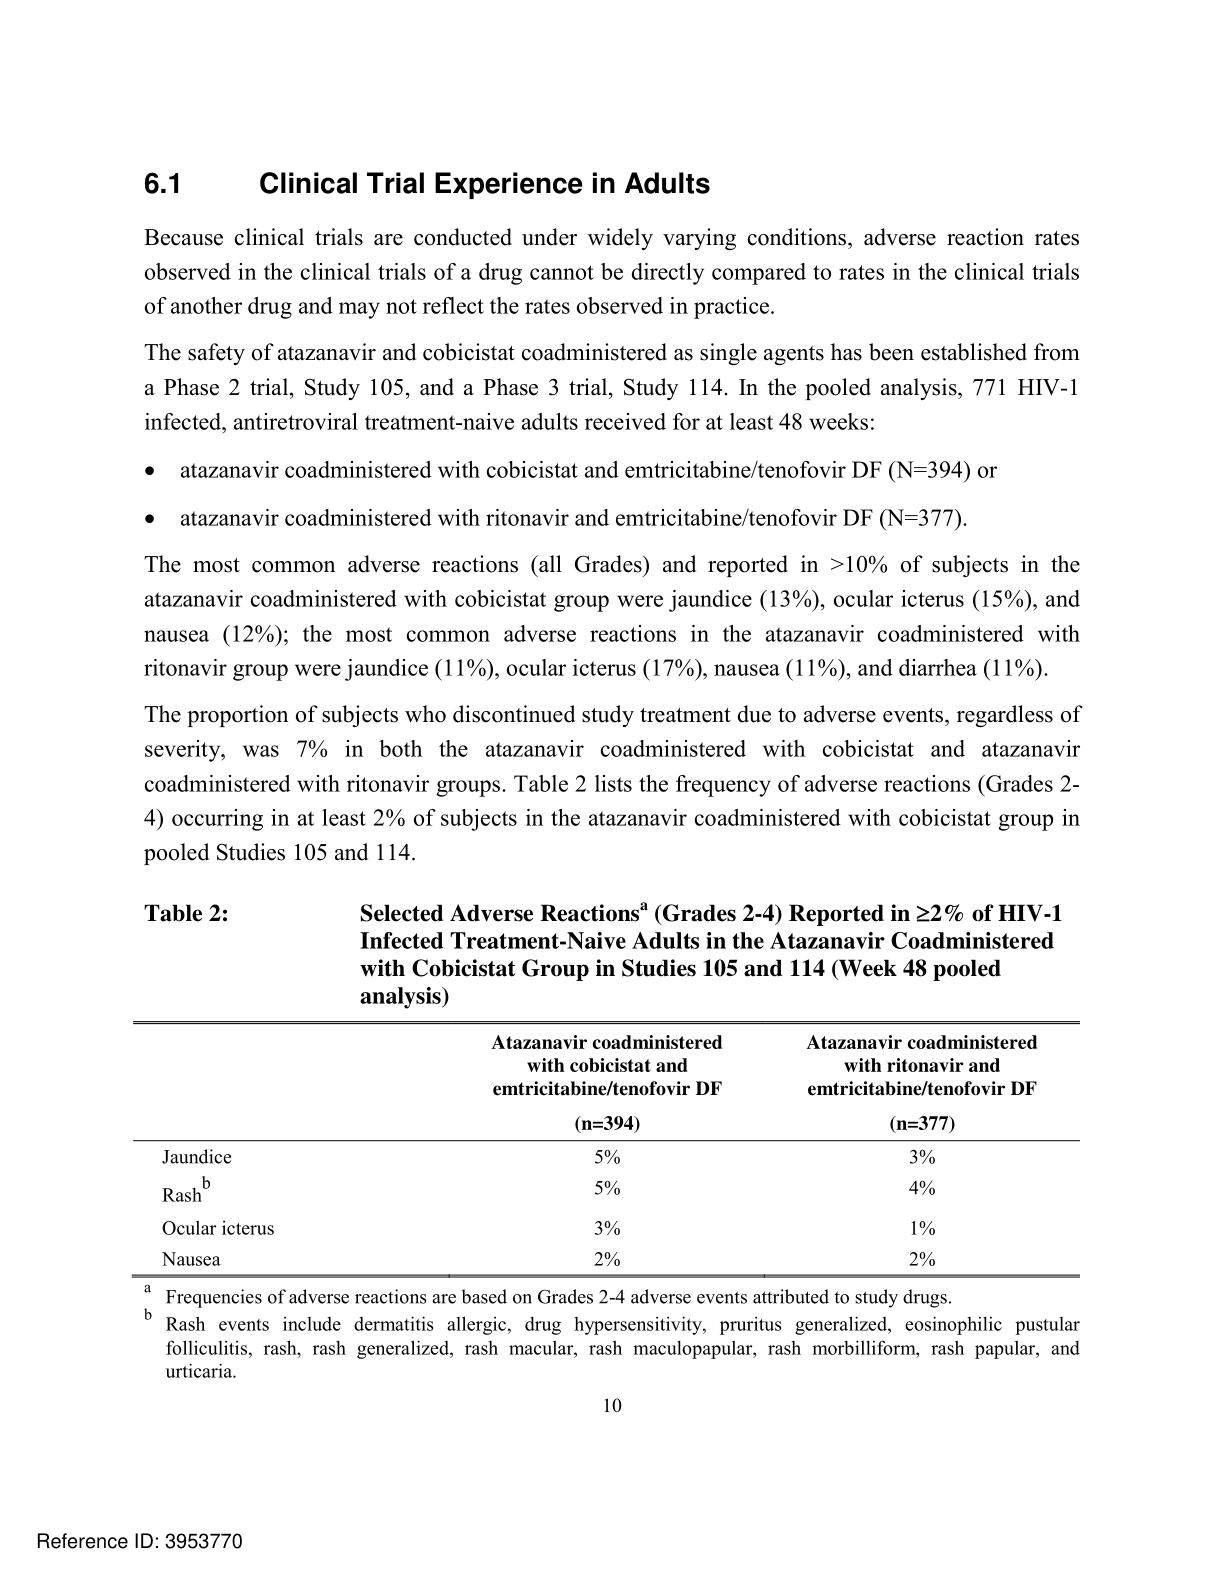partial_lined: (132, 1020, 1083, 1282)
